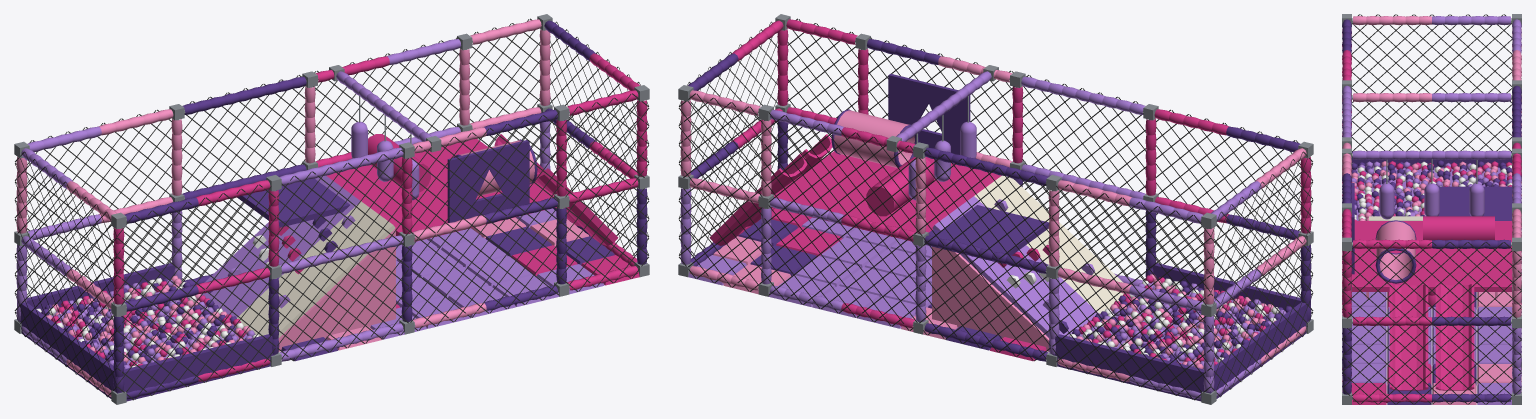
3 views of the same model, side by side, from view 1: azimuth 30°, elevation 25°; view 2: azimuth 150°, elevation 25°; view 3: azimuth 270°, elevation 25° (orthographic). The views are drawn at different scales.
Parts seen in each view (by area): view 1: isotubo, rede, plataforma, piso, acolchoado, bolinhas, metal, plastico; view 2: isotubo, rede, plataforma, piso, acolchoado, bolinhas, metal, plastico; view 3: isotubo, rede, plataforma, piso, plastico, acolchoado, bolinhas, metal.
Part boxes in pixels (x1,y1,x2,y2): isotubo: (16, 19, 647, 399); rede: (14, 18, 649, 400); plataforma: (201, 139, 556, 351); piso: (281, 208, 639, 361); acolchoado: (17, 121, 537, 401); bolinhas: (36, 275, 259, 369); metal: (14, 14, 649, 404); plastico: (207, 134, 618, 308); isotubo: (680, 19, 1311, 399); rede: (678, 18, 1313, 400); plataforma: (771, 73, 1123, 351); piso: (688, 208, 1046, 361); acolchoado: (831, 109, 1310, 401); bolinhas: (1069, 274, 1292, 368); metal: (678, 14, 1313, 404); plastico: (709, 134, 1094, 333); isotubo: (1342, 16, 1521, 402); rede: (1342, 14, 1521, 404); plataforma: (1351, 183, 1512, 298); piso: (1342, 292, 1521, 404); plastico: (1389, 211, 1474, 390); acolchoado: (1352, 151, 1511, 283); bolinhas: (1351, 160, 1512, 220); metal: (1342, 14, 1521, 404).
Size of the model in its own units: 6 by 2 by 2.
Materials: 8 (7 with a texture image).
